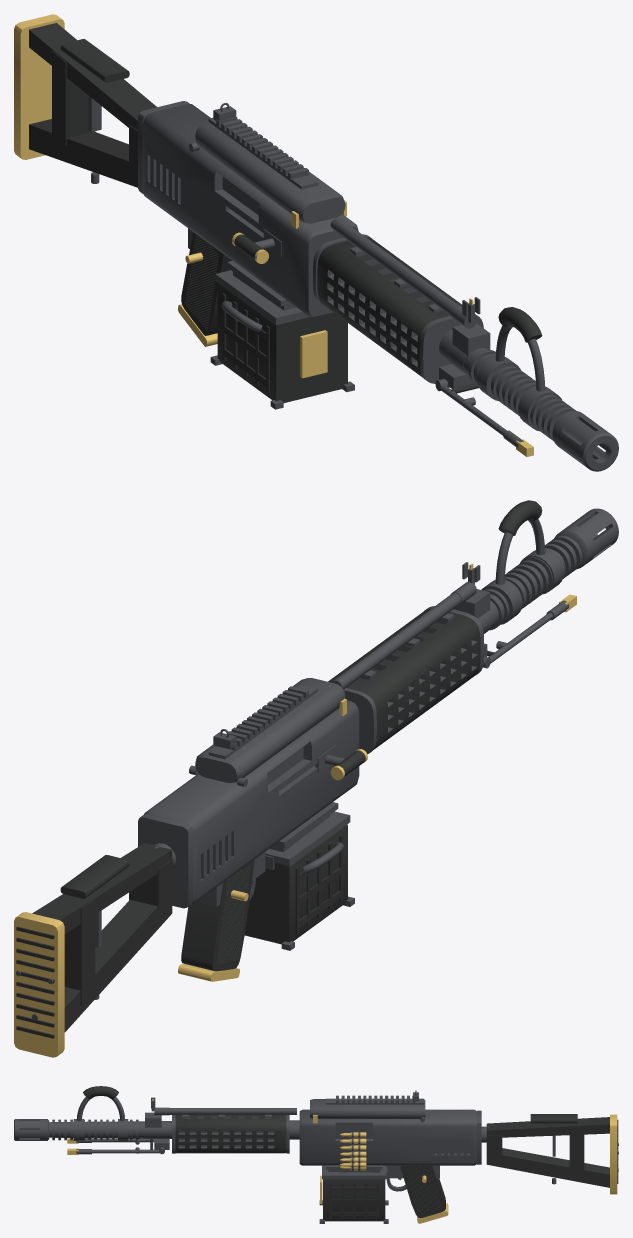
The model's file is LMG.glb.
3 renders of one model, top to bottom at view 1: azimuth 30°, elevation 25°; view 2: azimuth 150°, elevation 25°; view 3: azimuth 270°, elevation 25°, orthographic. The views are drawn at different scales.
Parts seen in each view (by area): view 1: LMGBody, Magazine, Bipod, Bolt; view 2: LMGBody, Magazine, Bipod, Bolt; view 3: LMGBody, Magazine, Bipod.
Part boxes in pixels (x1=…): LMGBody: x1=14, y1=14, x2=618, y2=471; Magazine: x1=210, y1=270, x2=354, y2=409; Bipod: x1=435, y1=364, x2=533, y2=456; Bolt: x1=232, y1=229, x2=281, y2=263; LMGBody: x1=14, y1=500, x2=618, y2=1057; Magazine: x1=244, y1=811, x2=354, y2=950; Bipod: x1=483, y1=594, x2=576, y2=668; Bolt: x1=315, y1=745, x2=367, y2=780; LMGBody: x1=14, y1=1086, x2=618, y2=1223; Magazine: x1=319, y1=1131, x2=388, y2=1223; Bipod: x1=67, y1=1138, x2=169, y2=1154.
Bounding box in the file's own units: 0.1232 × 0.2826 × 1.16.
